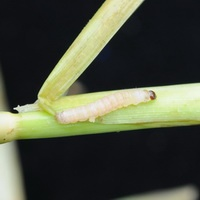insect: (18, 125, 199, 199), (79, 0, 199, 91)
